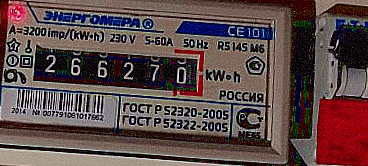0: (174, 64, 188, 85)
2: (42, 52, 58, 74), (121, 59, 135, 81)
6: (68, 56, 83, 77), (94, 58, 109, 78)
7: (146, 61, 161, 83)
screen: (22, 32, 213, 104)
